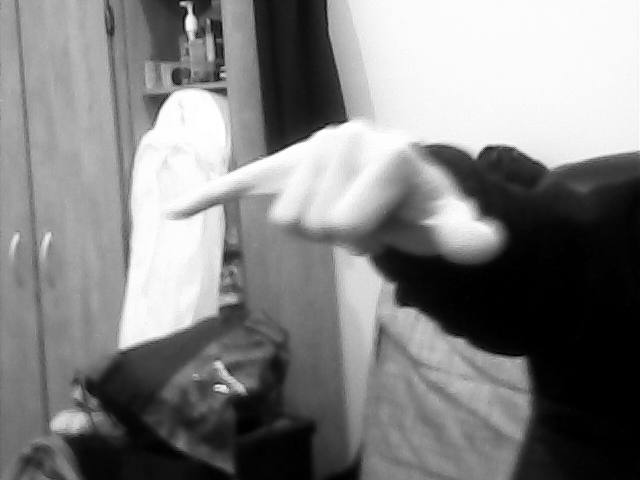aloha: (143, 116, 517, 271)
